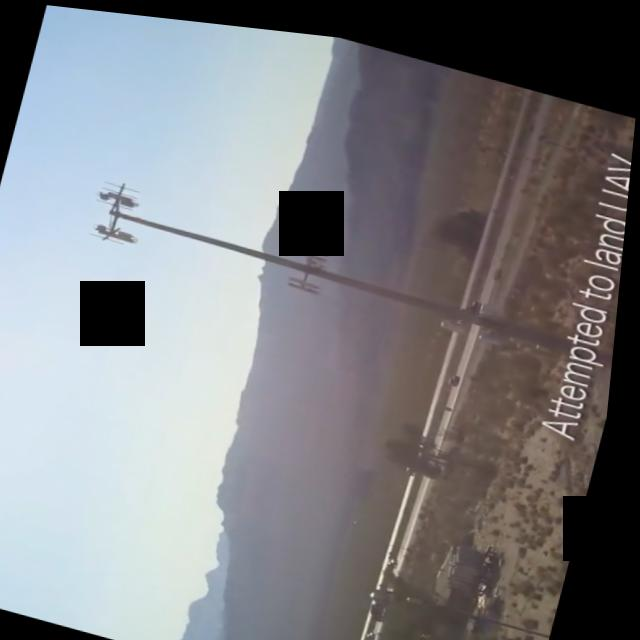Pole: (81, 172, 592, 356)
